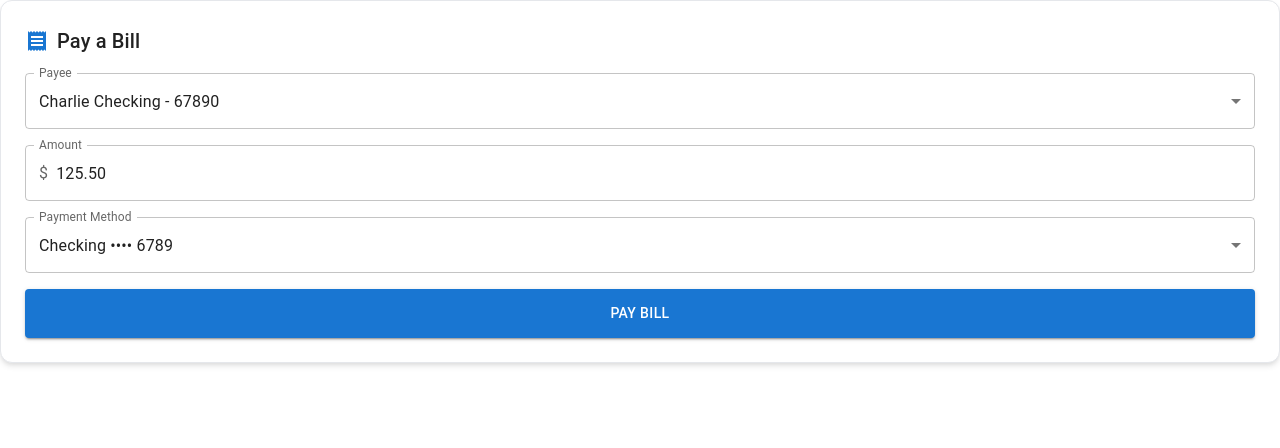
Test: PayBillCard - Payment Flow › processes bank account payment successfully
Expected: the dropdown named "payment method" is shown, [39,236,173,254]
Step 1. Click the button "Pay Bill" → (640, 313), box [25,289,1255,338]
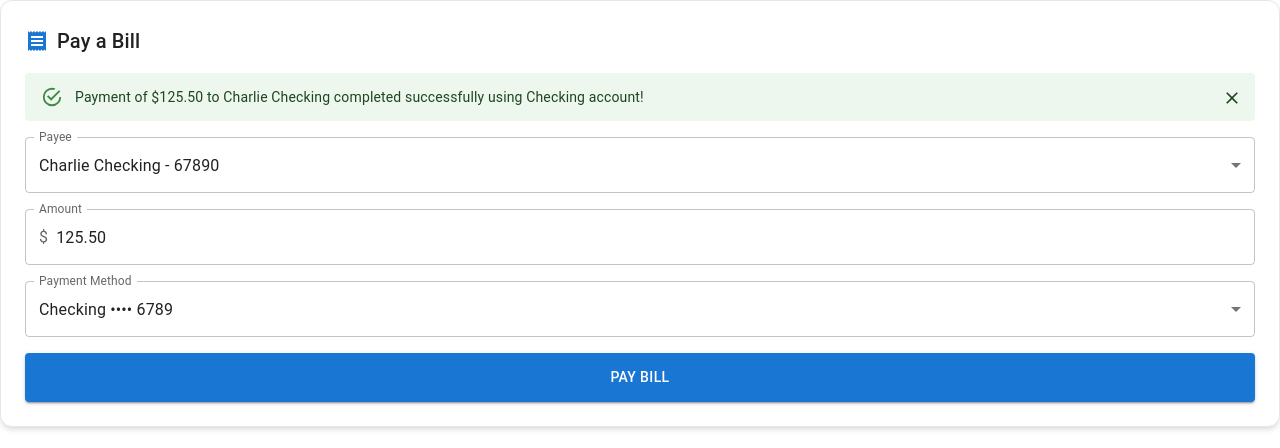
Result: the text "completed successfully" is shown at [75,89,644,105]
